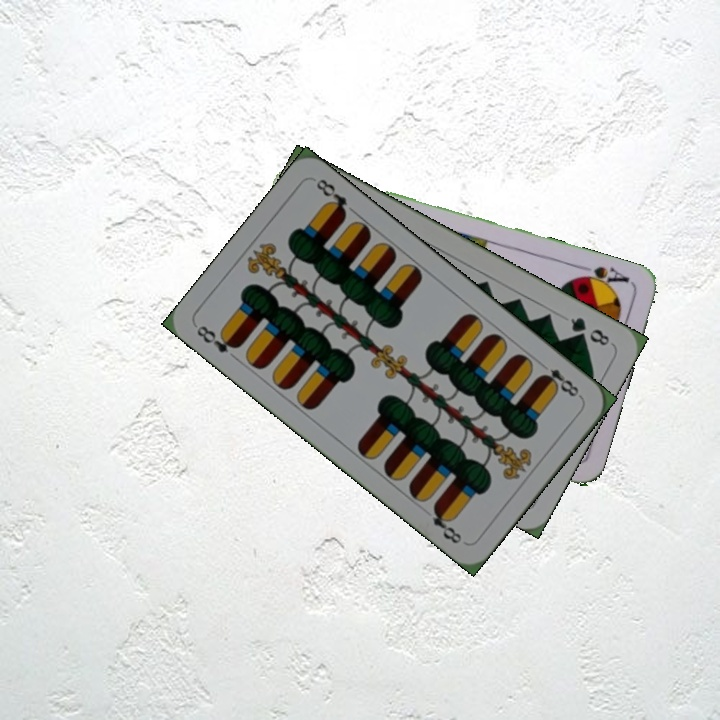E8: (535, 358, 584, 401), (192, 321, 243, 356)
G8: (566, 313, 615, 349)
SA: (572, 262, 632, 292)
